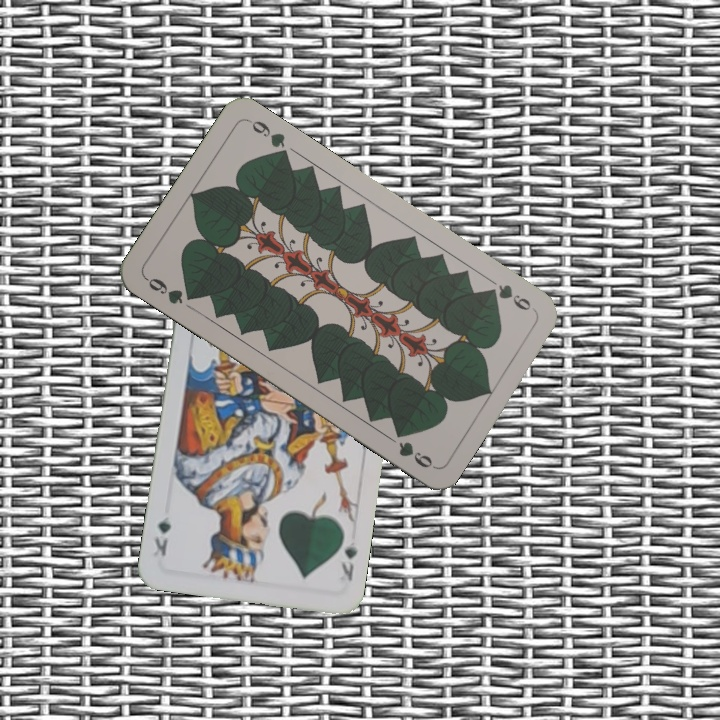G9: (141, 273, 199, 307), (482, 280, 538, 315)
GK: (337, 536, 360, 584)
